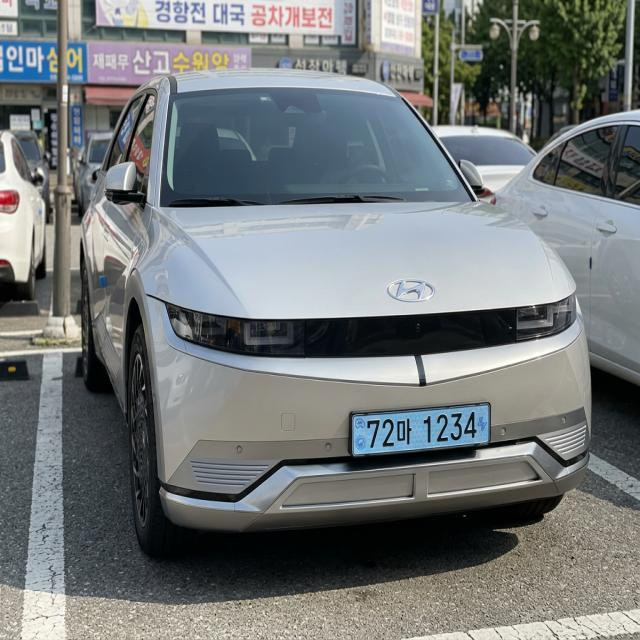car: (336, 399, 502, 467)
carev: (349, 413, 369, 460), (475, 401, 491, 452)
